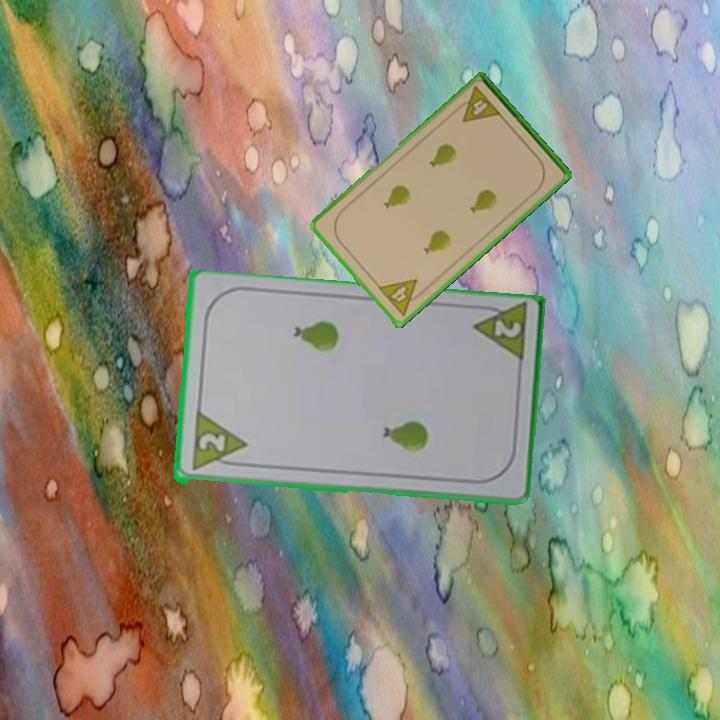2p: (194, 430, 228, 457), (491, 317, 524, 341)
4p: (374, 275, 429, 319), (451, 83, 504, 126)
